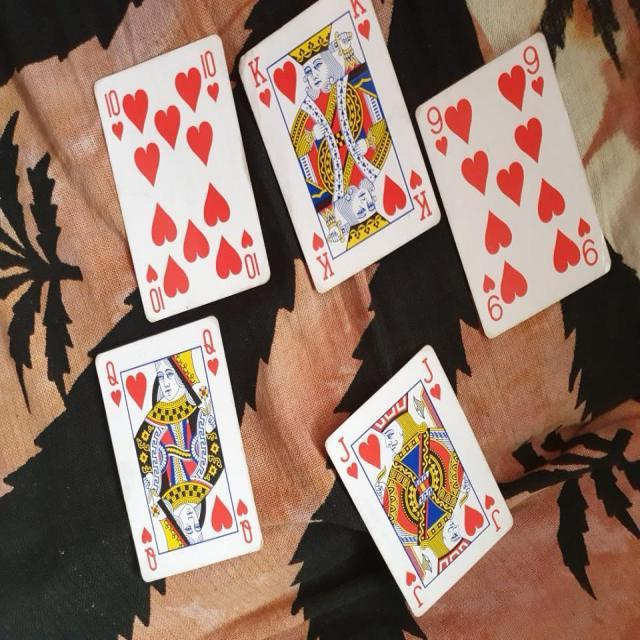10 of hearts: (90, 35, 278, 332)
9 of hearts: (406, 22, 614, 338)
jack of hearts: (322, 343, 522, 626)
king of hearts: (234, 0, 443, 302)
queen of hearts: (90, 308, 266, 598)
